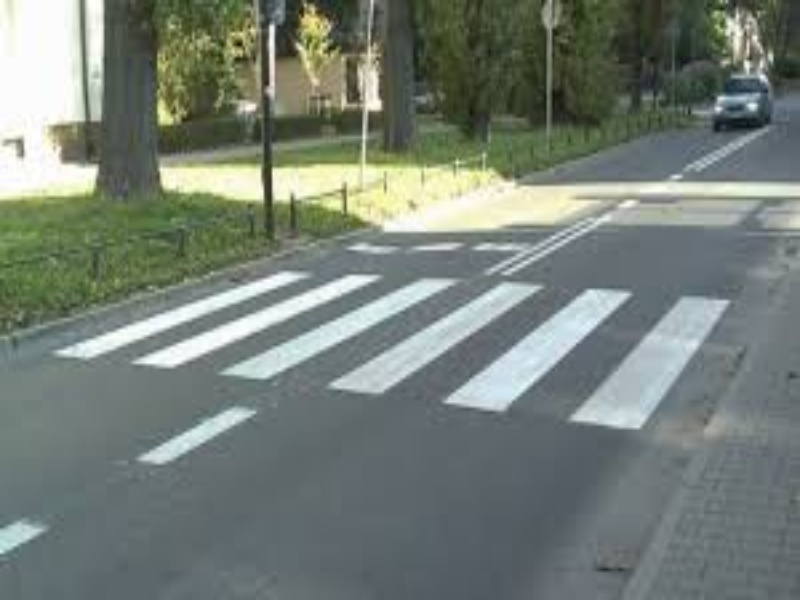zebra cross: (48, 268, 728, 434)
